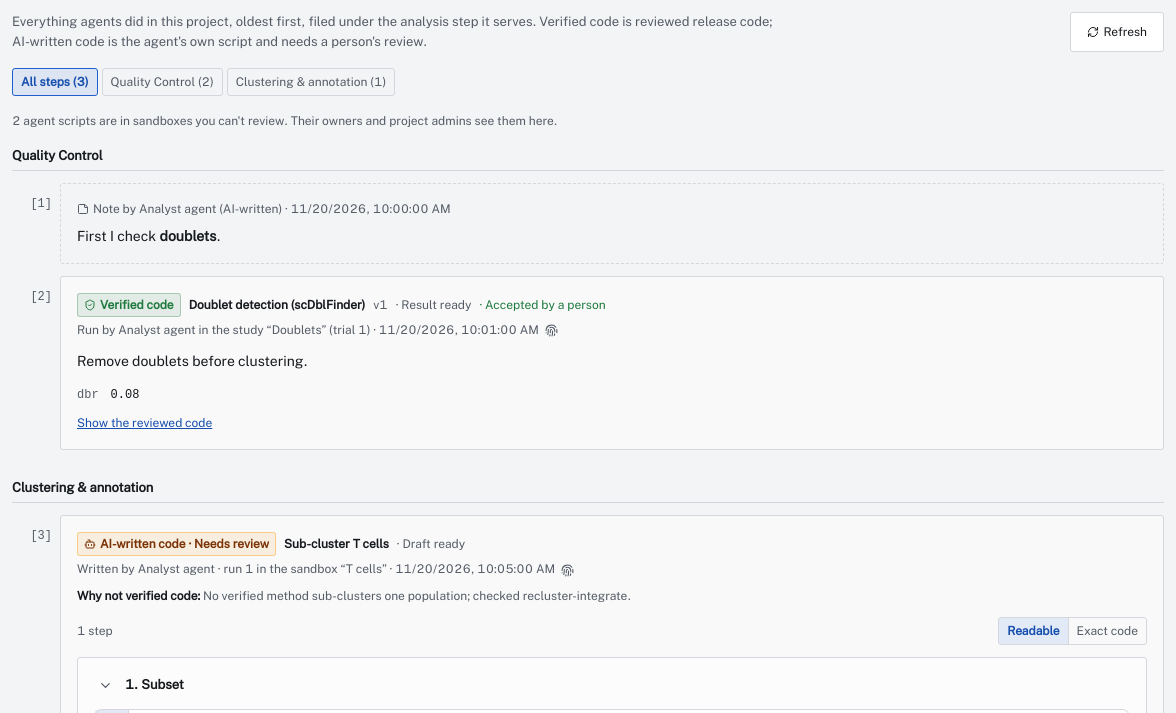
Test case: AgentNotebook › filters to one analysis step, offering only steps that have cells
This screenshot has width=1176, height=713.
Click the button "Clustering & annotation (1)": [311, 82] box top-left (227, 68), bottom-right (395, 96)
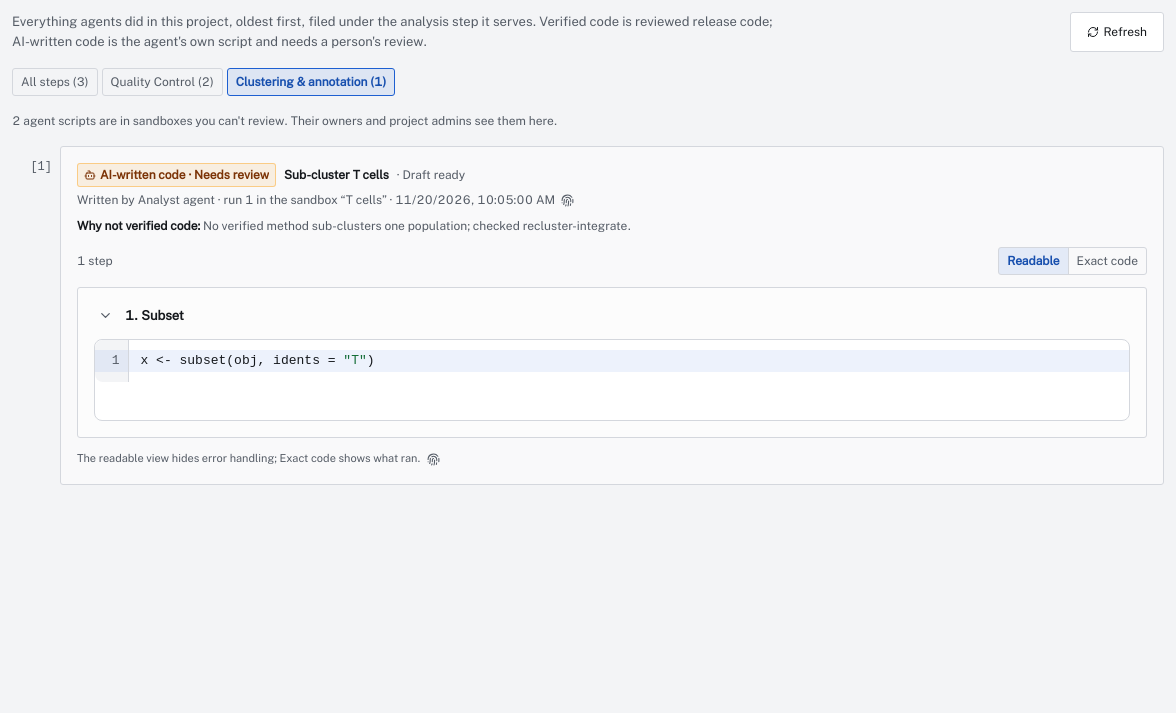
Check: the element named "Cell 1: agent script Sub-cluster T cells" is shown, box top-left (12, 146), bottom-right (1164, 485)
